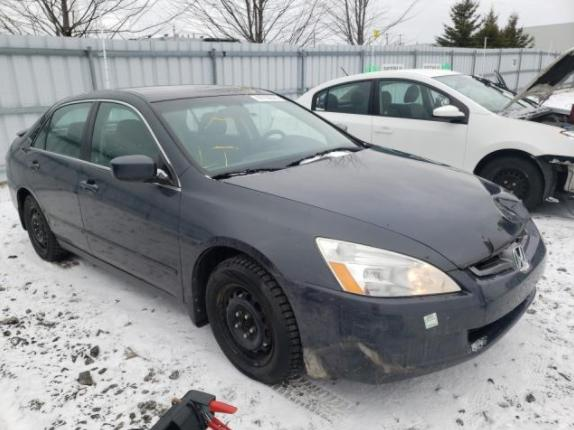Back-bumper: (7, 175, 25, 229)
Back-door: (25, 99, 94, 256)
Back-wheel: (24, 193, 72, 261)
Back-window: (34, 102, 92, 159)
Fender: (178, 166, 458, 326)
Front-bumper: (274, 251, 547, 385)
Front-door: (77, 98, 183, 301)
Front-wheel: (205, 253, 303, 386)
Front-window: (91, 101, 160, 177)
Grille: (462, 217, 546, 303)
Headlight: (315, 237, 463, 297)
Hood: (217, 145, 530, 270)
Mirror: (110, 155, 173, 185), (336, 125, 346, 132)
Quarter-panel: (4, 140, 53, 231)
Rocker-panel: (54, 235, 185, 312)
Roof: (86, 84, 277, 102)
Windshield: (149, 94, 363, 180)
